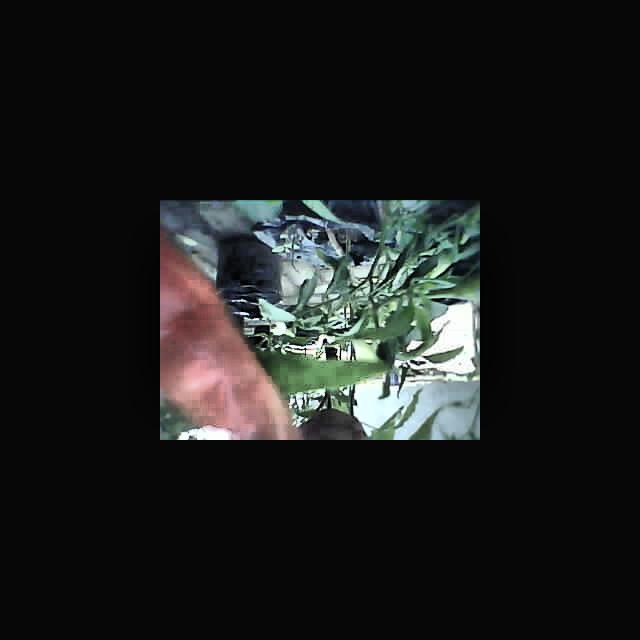Cabai: (160, 237, 281, 440)
